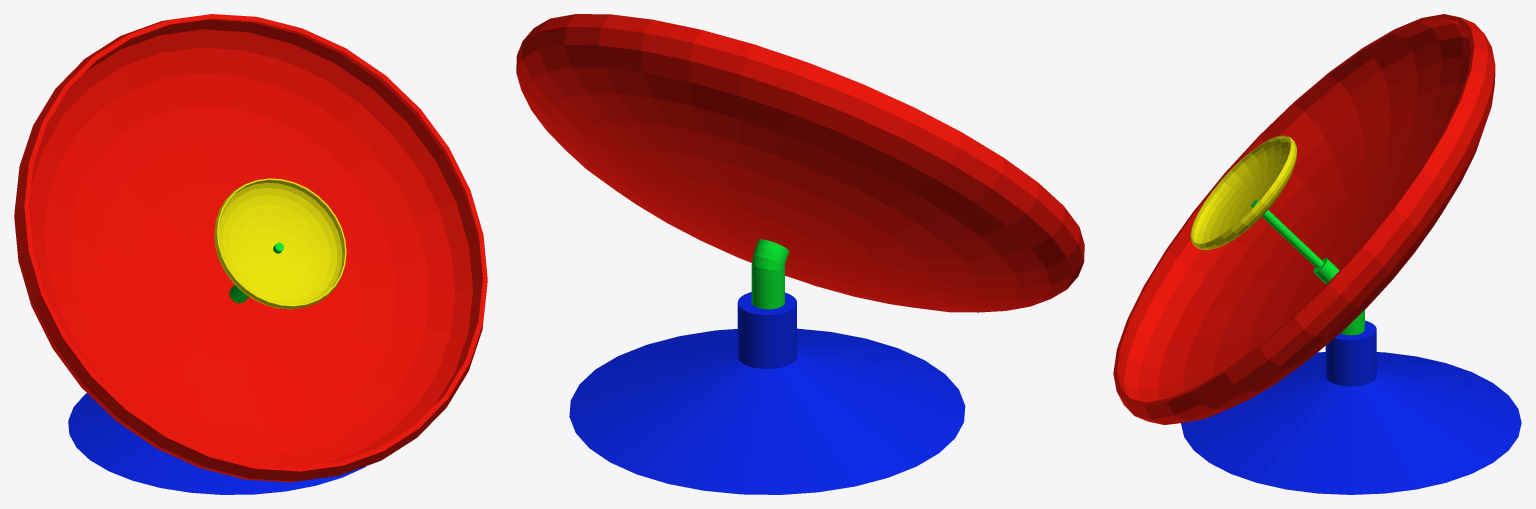
The model's file is solo_satalite.fbx.
3 views of the same model, side by side, from view 1: azimuth 30°, elevation 25°; view 2: azimuth 150°, elevation 25°; view 3: azimuth 270°, elevation 25° (orthographic). The views are drawn at different scales.
Visible parts, largest first — view 1: Sphere; view 2: Sphere; view 3: Sphere.
Boxes of the visible parts, bbox=[...] form: Sphere: bbox=[14, 14, 487, 494]; Sphere: bbox=[516, 14, 1084, 494]; Sphere: bbox=[1113, 14, 1521, 494].
Size of the model in its own units: 656 by 520 by 514.
